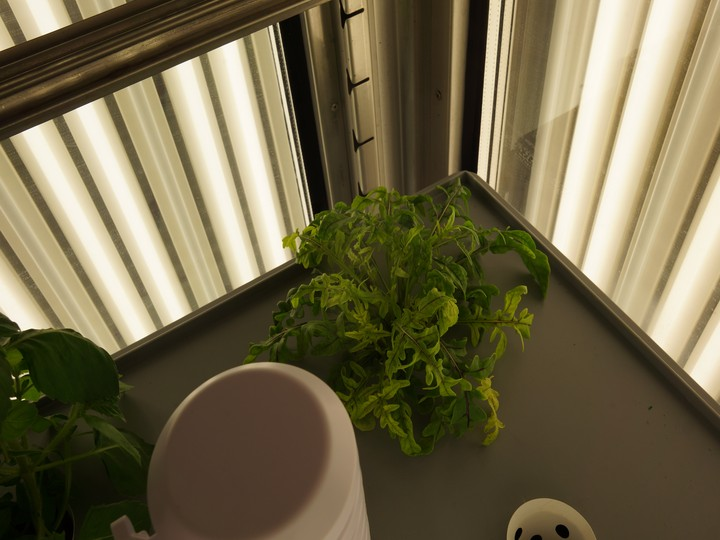basilic_blue_spice: (1, 301, 151, 540)
roquette_sauvage_red_veined: (241, 173, 555, 447)
